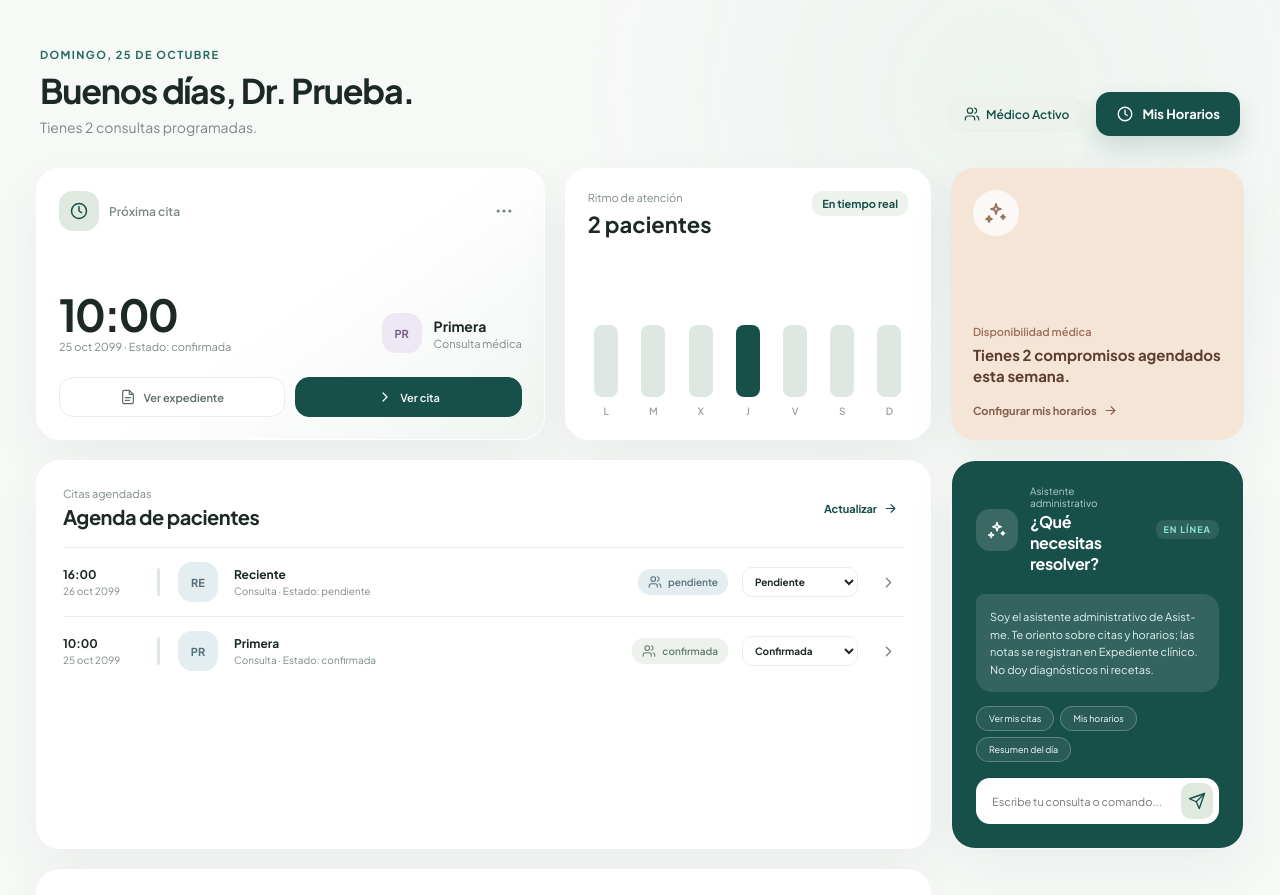
a late refresh cannot overwrite newer appointment results
Expected: the number of elements with class "appointment" is 2, x1=63 y1=547 x2=904 y2=616; x1=63 y1=616 x2=904 y2=685
Click the button "Actualizar": x=861, y=508 x1=818 y1=500 x2=904 y2=517
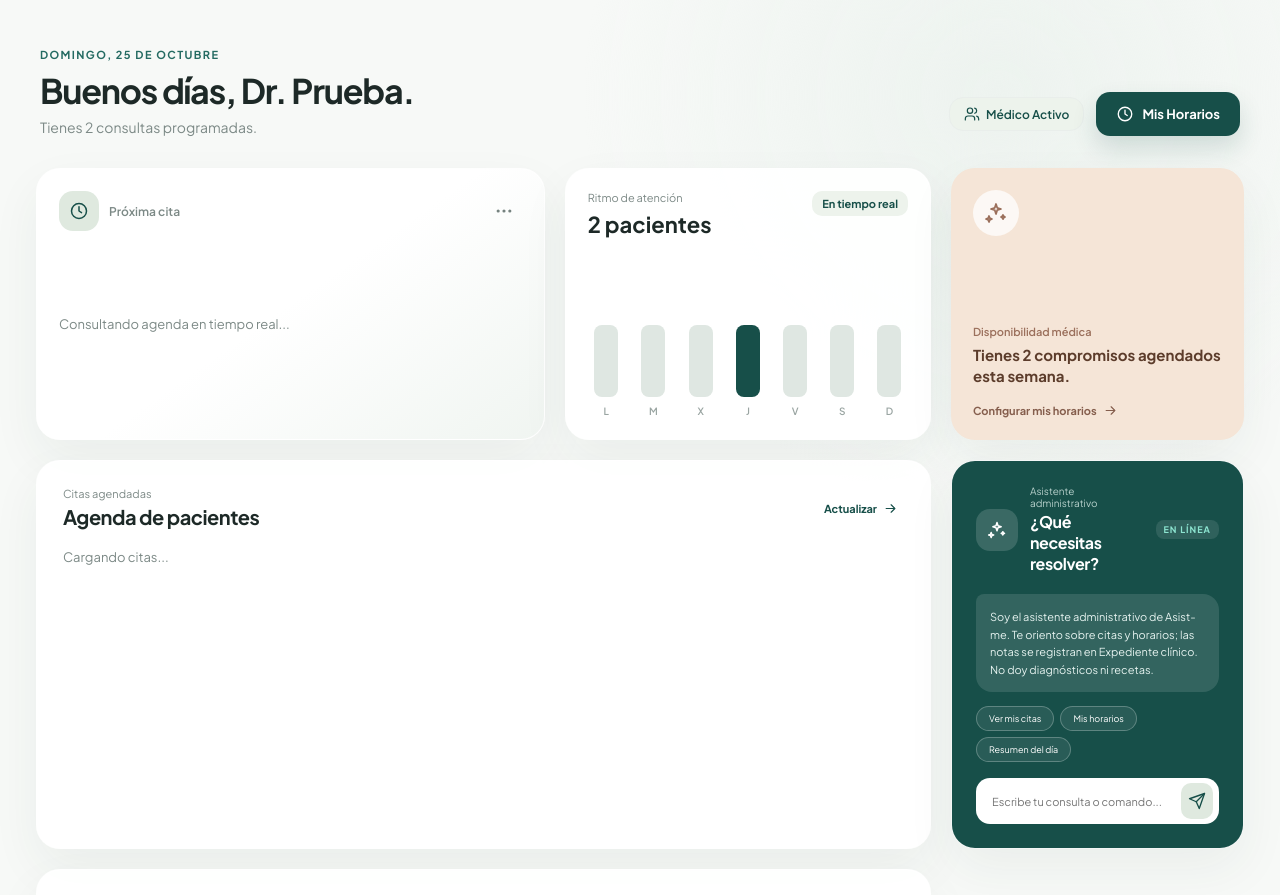
Click the button "Actualizar": x=861, y=508 x1=818 y1=500 x2=904 y2=517
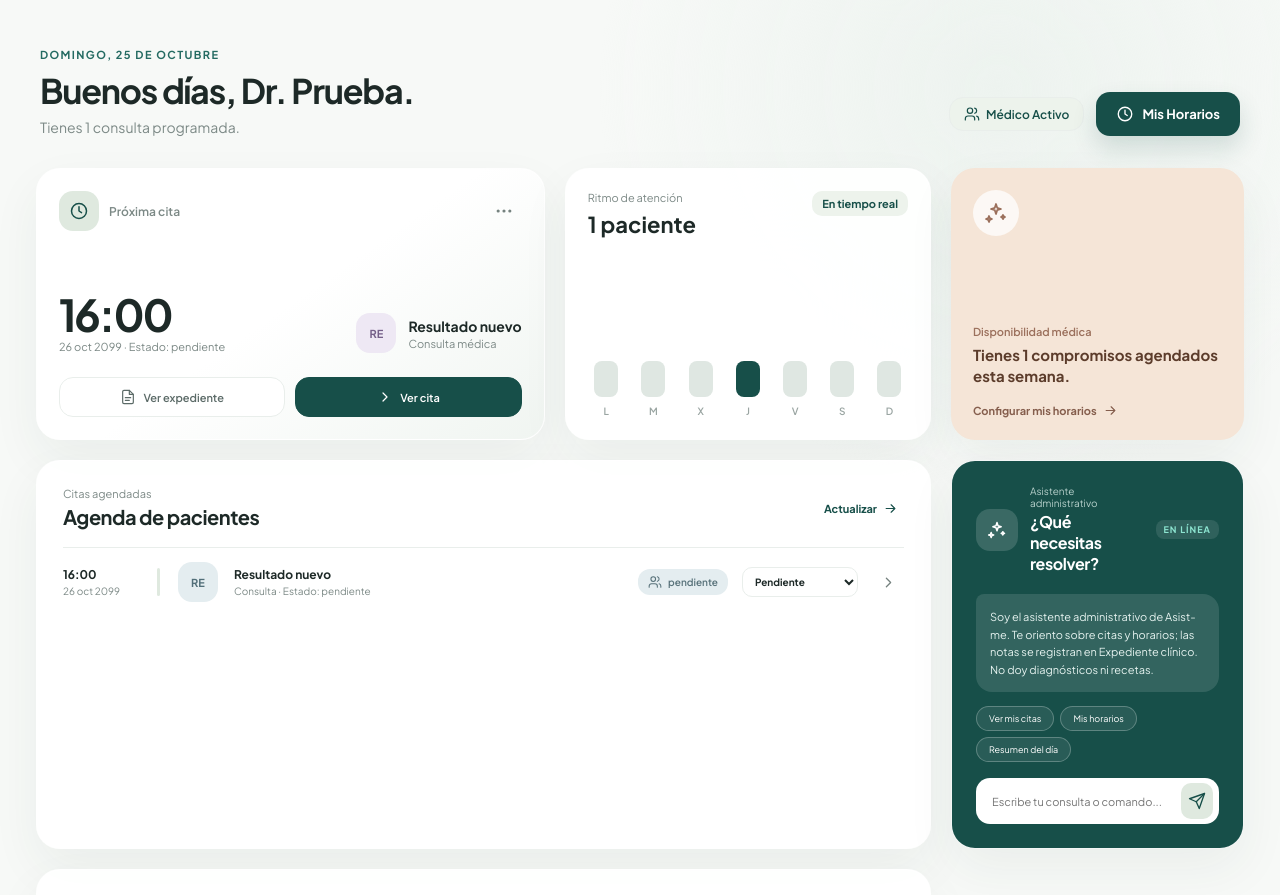
Expected: the text "Primera" is not shown
Now the element that starts with "26 oct 2099" shows "Resultado nuevo", box x1=234 y1=567 x2=331 y2=582
